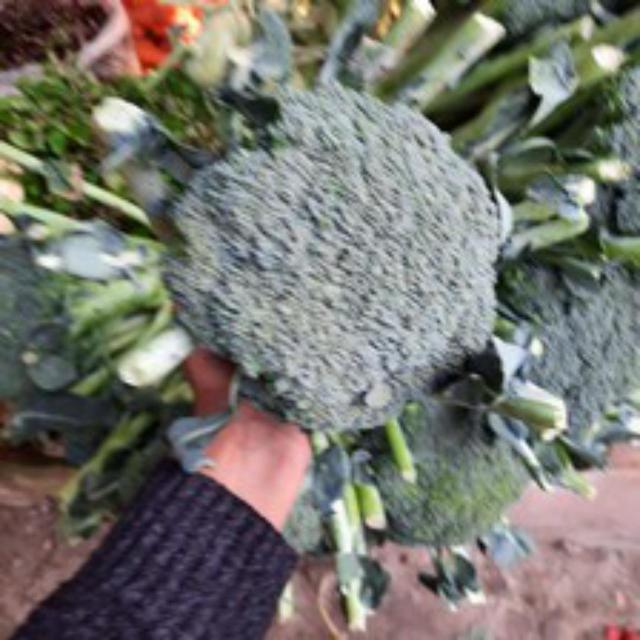broccoli: (176, 81, 503, 432)
